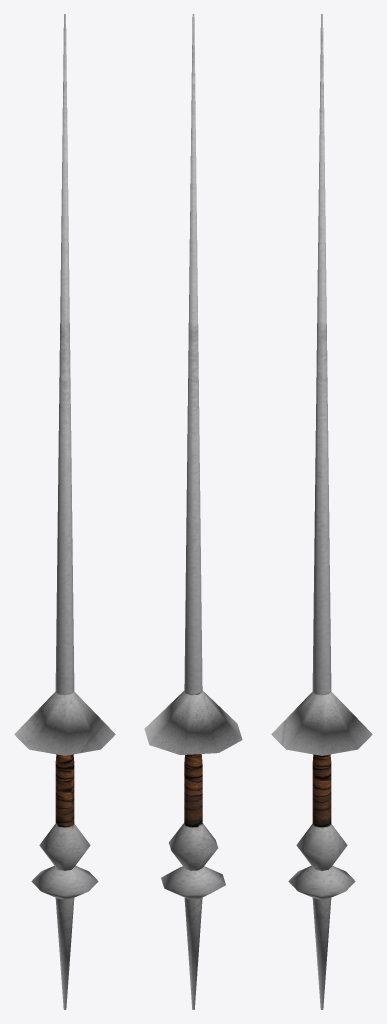
The model's file is Lance.fbx.
3 renders of one model, left to right at view 1: azimuth 90°, elevation 25°; view 2: azimuth 210°, elevation 25°; view 3: azimuth 270°, elevation 25°, orthographic.
Parts seen in each view (by area): view 1: Lance; view 2: Lance; view 3: Lance.
Part boxes in pixels (x1,y1,x2,y2): Lance: (14, 14, 115, 1009); Lance: (144, 14, 242, 1009); Lance: (271, 14, 372, 1009).
Bounding box in the file's own units: 103 × 1111 × 103.
